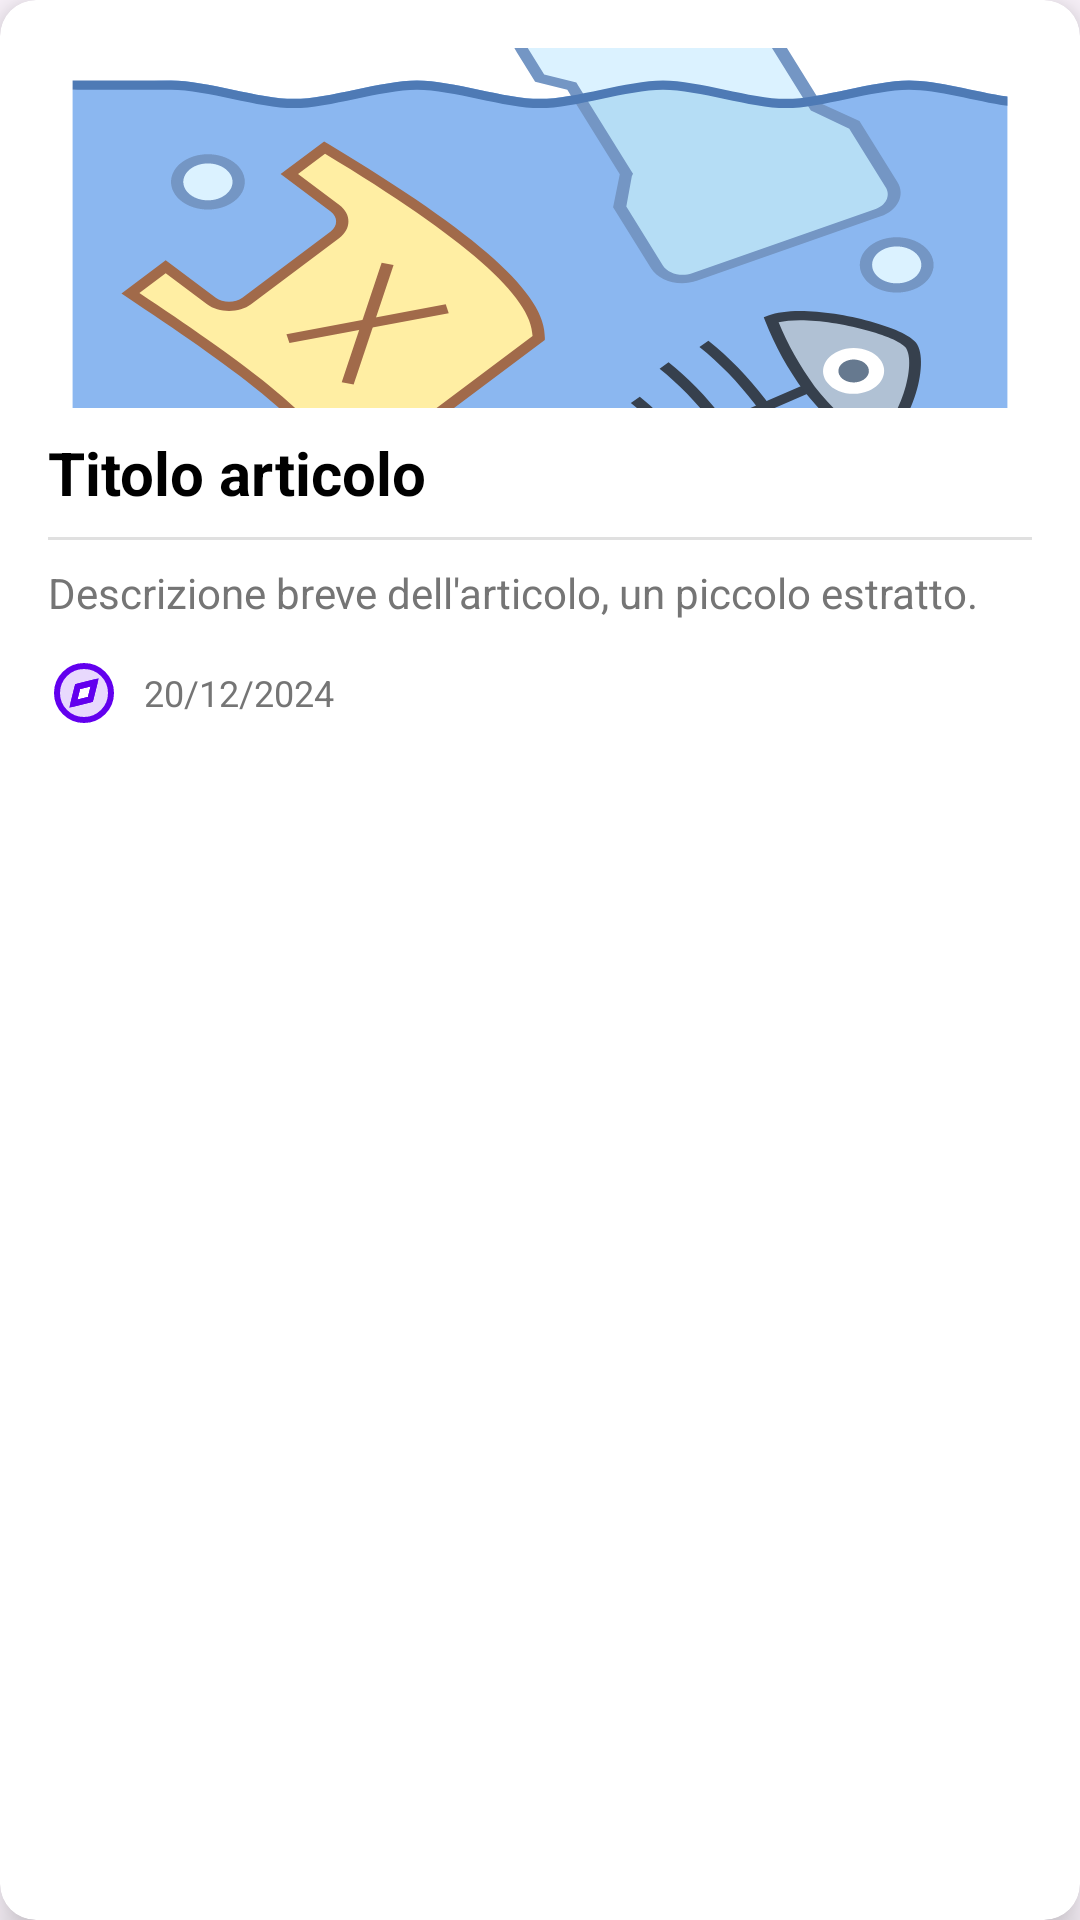

Icon click points for this 1080 x 1920 phone screenshot, format point (x, y):
explore: point (84, 693)
